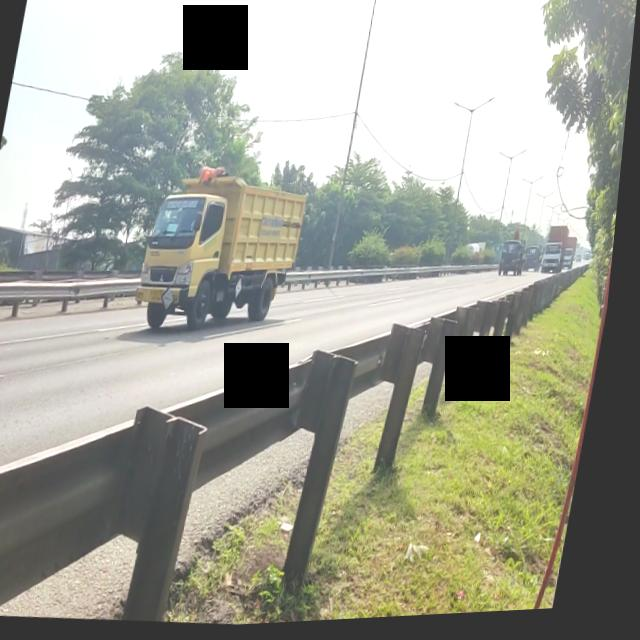Golongan II: (122, 162, 318, 343)
